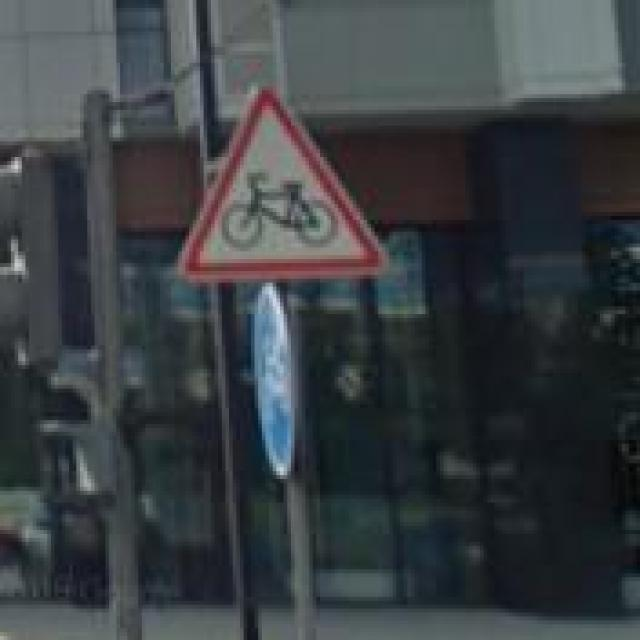traffic_sign: (175, 79, 392, 282)
